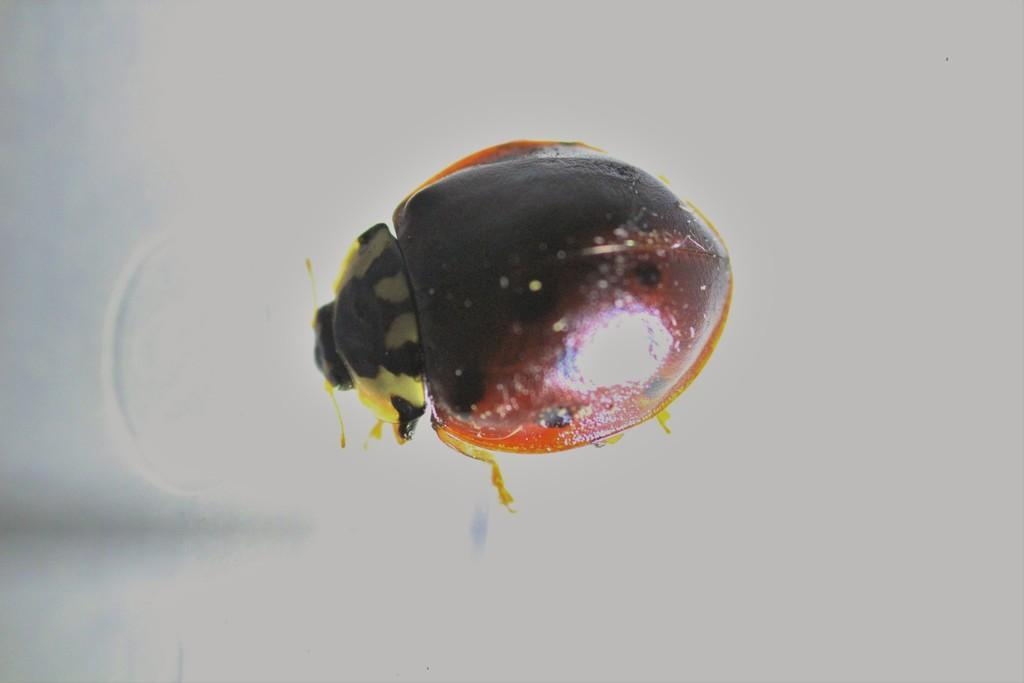ladybug: (303, 137, 739, 517)
